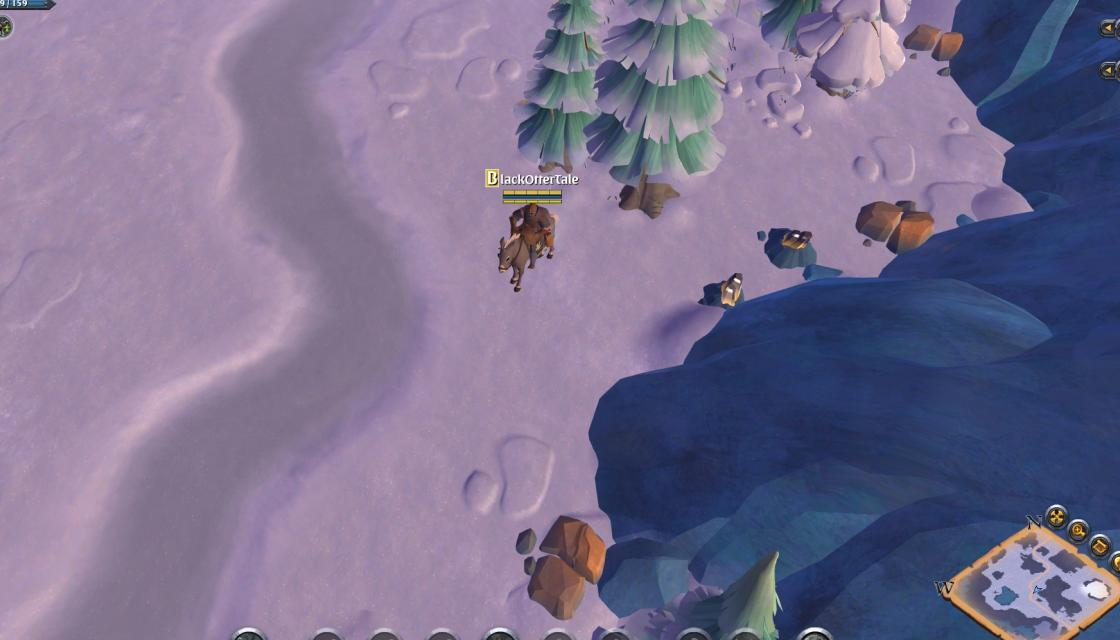copperore: (766, 221, 822, 266), (698, 270, 757, 310)
limestone: (516, 506, 606, 616), (856, 194, 936, 258), (900, 19, 968, 68)
